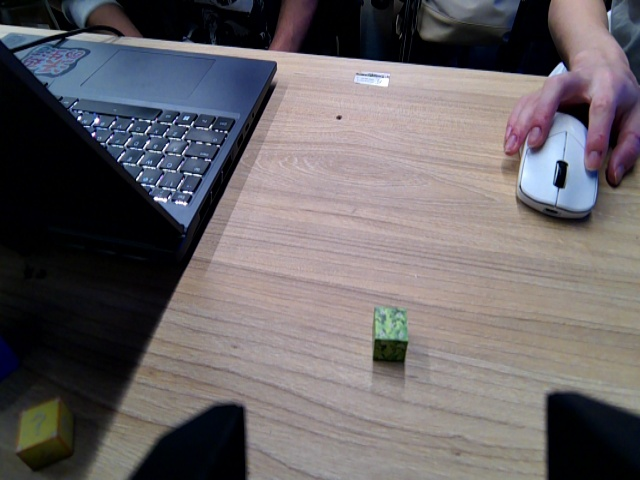grass: (370, 304, 409, 362)
